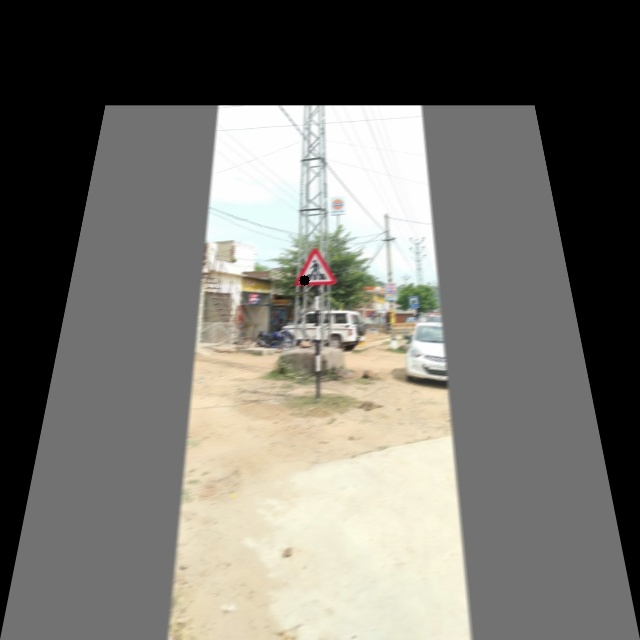Pedestrian_Crossing: (292, 246, 338, 289)
